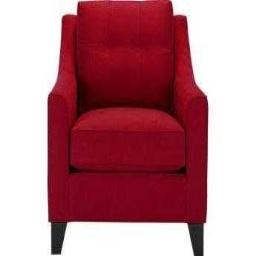Chair: (47, 1, 209, 256)
